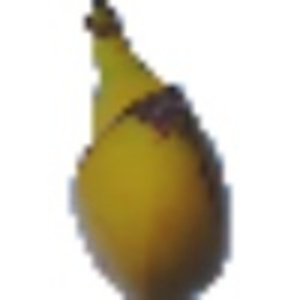banana: (69, 2, 239, 299)
